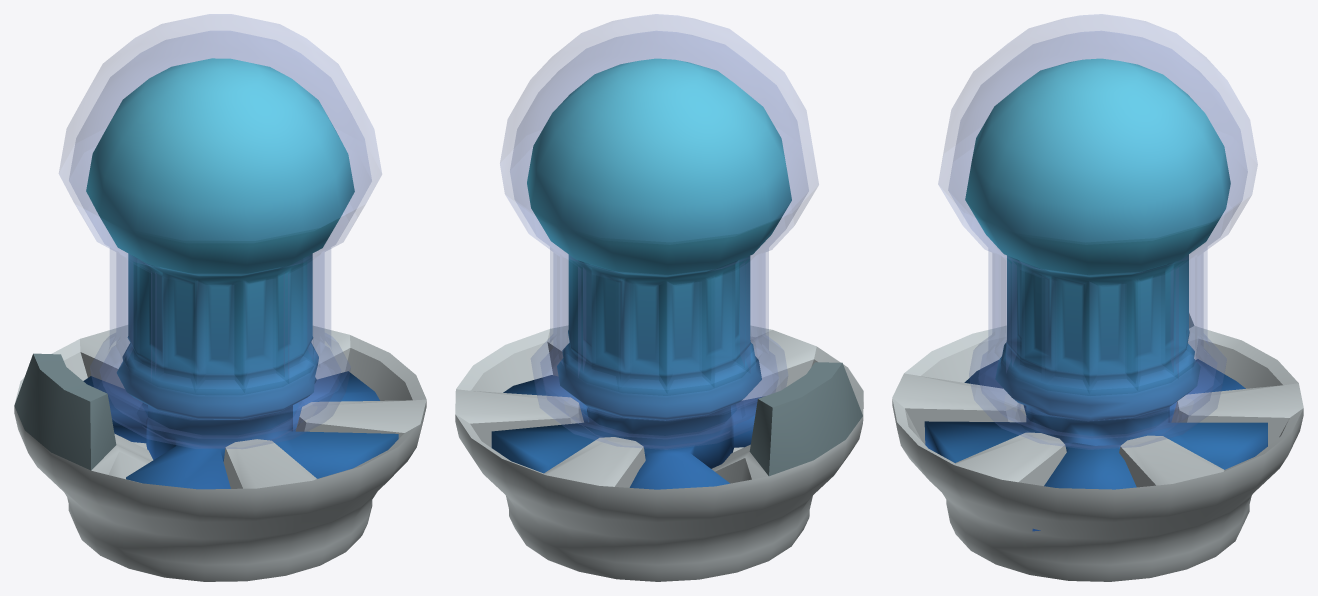
File: ChickenWater.fbx
3 renders of one model, left to right at view 1: azimuth 30°, elevation 25°; view 2: azimuth 150°, elevation 25°; view 3: azimuth 270°, elevation 25°, orthographic.
Parts seen in each view (by area): view 1: WaterCap, Water; view 2: WaterCap, Water; view 3: WaterCap, Water.
Part boxes in pixels (bbox=[...]): WaterCap: bbox=[14, 14, 426, 581]; Water: bbox=[83, 58, 398, 489]; WaterCap: bbox=[455, 14, 863, 581]; Water: bbox=[491, 58, 791, 489]; WaterCap: bbox=[892, 14, 1303, 581]; Water: bbox=[924, 58, 1267, 531].
Bounding box in the file's own units: 0.2627 × 0.3512 × 0.2632.
